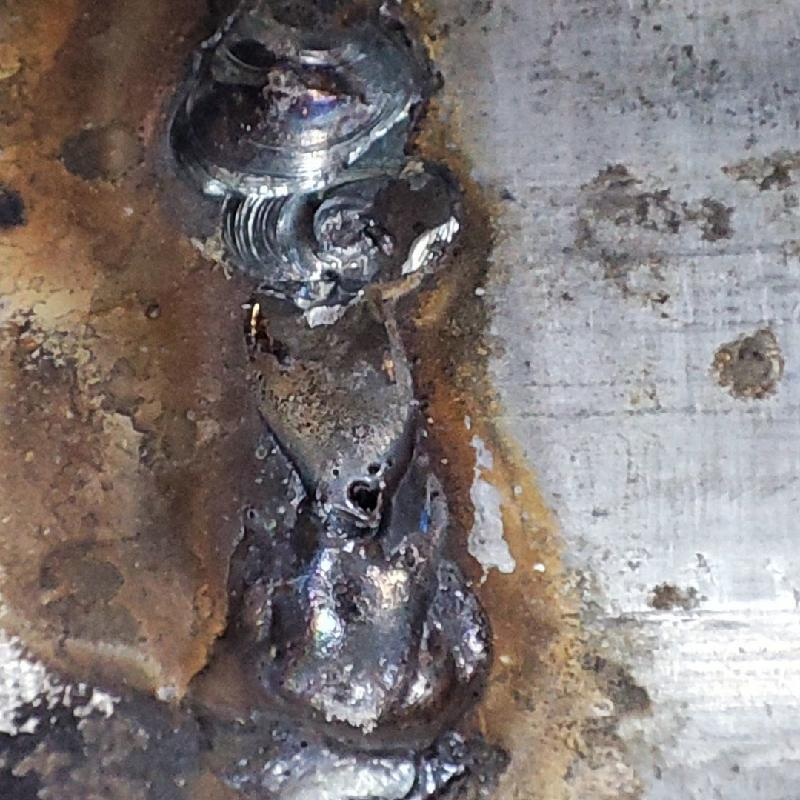Not_fully_soldered: (217, 195, 464, 525)
Surface_pores: (319, 450, 400, 520)
Weld: (208, 523, 498, 796)
wrong_size: (181, 2, 429, 196)
